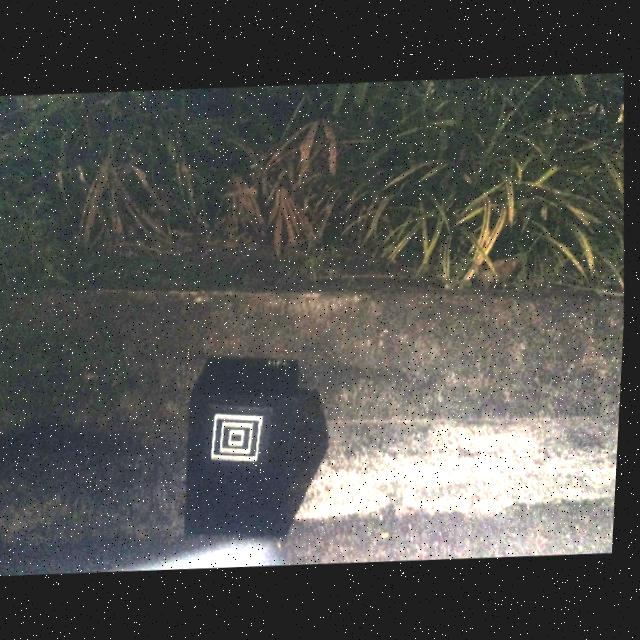BULLSEYE: (217, 413, 266, 461)
